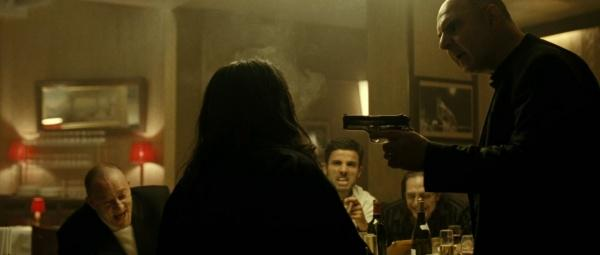Gun: (340, 112, 414, 143)
